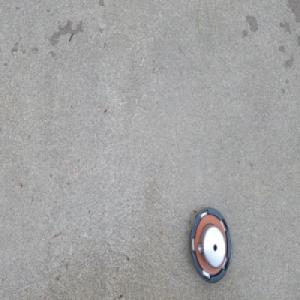FuelCap: (186, 203, 231, 284)
